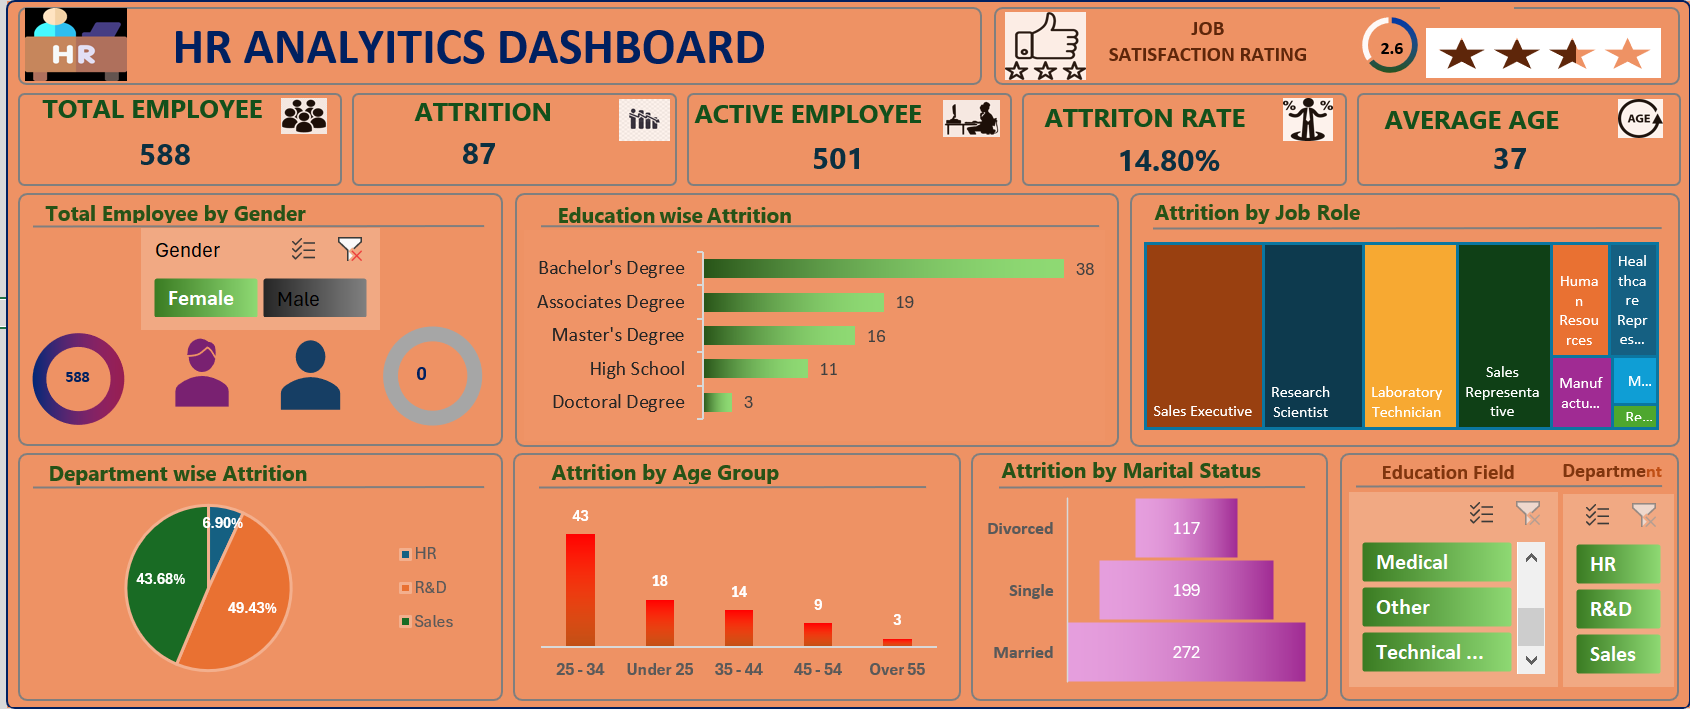

What the dashboard file says about the page in this screenshot:
{"tool":"powerbi","page":{"name":"Page 1","canvas":[1280,720],"ordinal":0},"visuals":[{"type":"card","title":"Over all Employees","fields":{"Values":["Sum(Data.Employee Count)"]},"box":[17.2,61,240.7,109.4],"z":0},{"type":"card","title":"Attrition","fields":{"Values":["Sum(Data.Attrition Count)"]},"box":[268.4,59.4,242.3,111],"z":1000},{"type":"card","title":"Attrition Rate","fields":{"Values":["Data.Attrition Rate"]},"box":[521.3,61,242.3,111],"z":2000},{"type":"card","title":"Active Employee","fields":{"Values":["Data.Active Employee"]},"box":[774.1,64.1,242.3,111],"z":3000},{"type":"card","title":"Average Age","fields":{"Values":["Avg(Data.Age)"]},"box":[1026.9,61,242.3,111],"z":4000},{"type":"actionButton","box":[0,0,100,40],"z":5000},{"type":"pieChart","title":"Department Wise Attrition","fields":{"Category":["Data.Department"],"Y":["Sum(Data.Attrition Count)"]},"box":[17.2,186,389.2,259.5],"z":6000},{"type":"columnChart","title":"No of  Employee by Age Group","fields":{"Category":["Data.CF_age band"],"Y":["Sum(Data.Employee Count)"],"Series":["Data.Gender"]},"box":[420.4,186,389.2,259.5],"z":7000},{"type":"pivotTable","title":"Job Satisfaction Rating","fields":{"Rows":["Data.Job Role"],"Columns":["Data.Job Satisfaction"],"Values":["Sum(Data.Employee Count)"]},"box":[822.1,186,447,259.5],"z":8000},{"type":"barChart","title":"Education Field wise Attrition","fields":{"Category":["Data.Education Field"],"Y":["Sum(Data.Attrition Count)"]},"box":[17.2,454.8,348.5,259.5],"z":9000},{"type":"donutChart","title":"Under 25","fields":{"Category":["Data.Gender"],"Y":["Sum(Data.Attrition Count)"],"Series":["Data.CF_age band"]},"box":[378.2,492.3,175,221],"z":10000},{"type":"textbox","title":"Attrition Rate by Gender for Different Age Group","box":[378.2,454.8,890.9,26.6],"z":11000},{"type":"donutChart","title":"25 - 34","fields":{"Category":["Data.Gender"],"Y":["Sum(Data.Attrition Count)"],"Series":["Data.CF_age band"]},"box":[557.2,492.3,175.1,221.9],"z":12000},{"type":"donutChart","title":"35 - 44","fields":{"Category":["Data.Gender"],"Y":["Sum(Data.Attrition Count)"],"Series":["Data.CF_age band"]},"box":[736.1,490.8,175.1,221.9],"z":13000},{"type":"donutChart","title":"45 - 54","fields":{"Category":["Data.Gender"],"Y":["Sum(Data.Attrition Count)"],"Series":["Data.CF_age band"]},"box":[915.1,492.3,175.1,221.9],"z":14000},{"type":"donutChart","title":"Above 55","fields":{"Category":["Data.Gender"],"Y":["Sum(Data.Attrition Count)"],"Series":["Data.CF_age band"]},"box":[1094.1,490.8,175.1,221.9],"z":15000},{"type":"card","fields":{"Values":["Sum(Data.Attrition Count)"]},"box":[440.8,584.6,48.5,45.3],"z":16000},{"type":"card","fields":{"Values":["Sum(Data.Attrition Count)"]},"box":[616.1,591.5,60.5,37.8],"z":17000},{"type":"card","fields":{"Values":["Sum(Data.Attrition Count)"]},"box":[800.2,592.4,46.9,37.5],"z":18000},{"type":"card","fields":{"Values":["Sum(Data.Attrition Count)"]},"box":[978.4,592.4,48.5,37.5],"z":19000},{"type":"card","fields":{"Values":["Sum(Data.Attrition Count)"]},"box":[1156.6,592.4,51.6,37.5],"z":20000},{"type":"textbox","title":"HR ANALYTICS DASHBOARD","box":[17.2,14.1,459.5,45.3],"z":21000},{"type":"slicer","fields":{"Values":["Data.Education"]},"box":[511.1,12.5,747.1,46.9],"z":22000}]}

Visuals, with their boxes on the page's 1280x720 design canvas (x1, y1, x2, y2). These are canvas units, not pixel positions in the 1690x709 screenshot, which may show the page scaled, cropped or inside an application window:
"Over all Employees" card: <bbox>17, 61, 258, 170</bbox>
"Attrition" card: <bbox>268, 59, 511, 170</bbox>
"Attrition Rate" card: <bbox>521, 61, 764, 172</bbox>
"Active Employee" card: <bbox>774, 64, 1016, 175</bbox>
"Average Age" card: <bbox>1027, 61, 1269, 172</bbox>
actionButton: <bbox>0, 0, 100, 40</bbox>
"Department Wise Attrition" pieChart: <bbox>17, 186, 406, 446</bbox>
"No of  Employee by Age Group" columnChart: <bbox>420, 186, 810, 446</bbox>
"Job Satisfaction Rating" pivotTable: <bbox>822, 186, 1269, 446</bbox>
"Education Field wise Attrition" barChart: <bbox>17, 455, 366, 714</bbox>
"Under 25" donutChart: <bbox>378, 492, 553, 713</bbox>
"Attrition Rate by Gender for Different Age Group" textbox: <bbox>378, 455, 1269, 481</bbox>
"25 - 34" donutChart: <bbox>557, 492, 732, 714</bbox>
"35 - 44" donutChart: <bbox>736, 491, 911, 713</bbox>
"45 - 54" donutChart: <bbox>915, 492, 1090, 714</bbox>
"Above 55" donutChart: <bbox>1094, 491, 1269, 713</bbox>
card - Sum(Data.Attrition Count): <bbox>441, 585, 489, 630</bbox>
card - Sum(Data.Attrition Count): <bbox>616, 592, 677, 629</bbox>
card - Sum(Data.Attrition Count): <bbox>800, 592, 847, 630</bbox>
card - Sum(Data.Attrition Count): <bbox>978, 592, 1027, 630</bbox>
card - Sum(Data.Attrition Count): <bbox>1157, 592, 1208, 630</bbox>
"HR ANALYTICS DASHBOARD" textbox: <bbox>17, 14, 477, 59</bbox>
slicer - Data.Education: <bbox>511, 12, 1258, 59</bbox>
